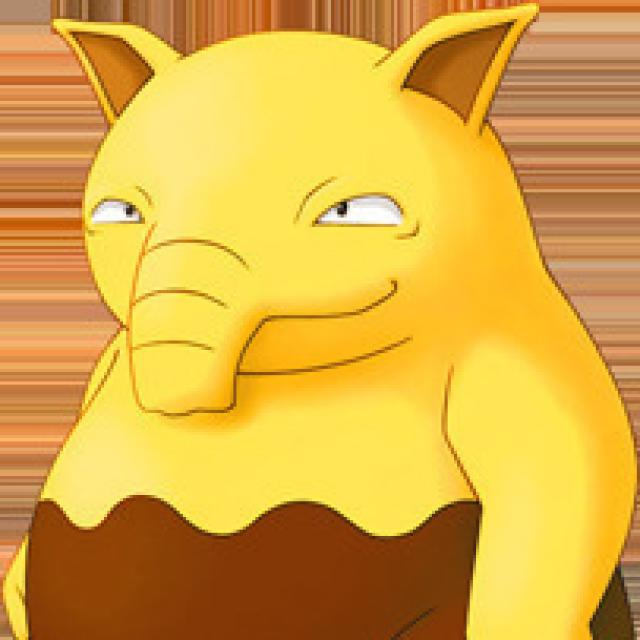Drowzee: (35, 11, 615, 640)
